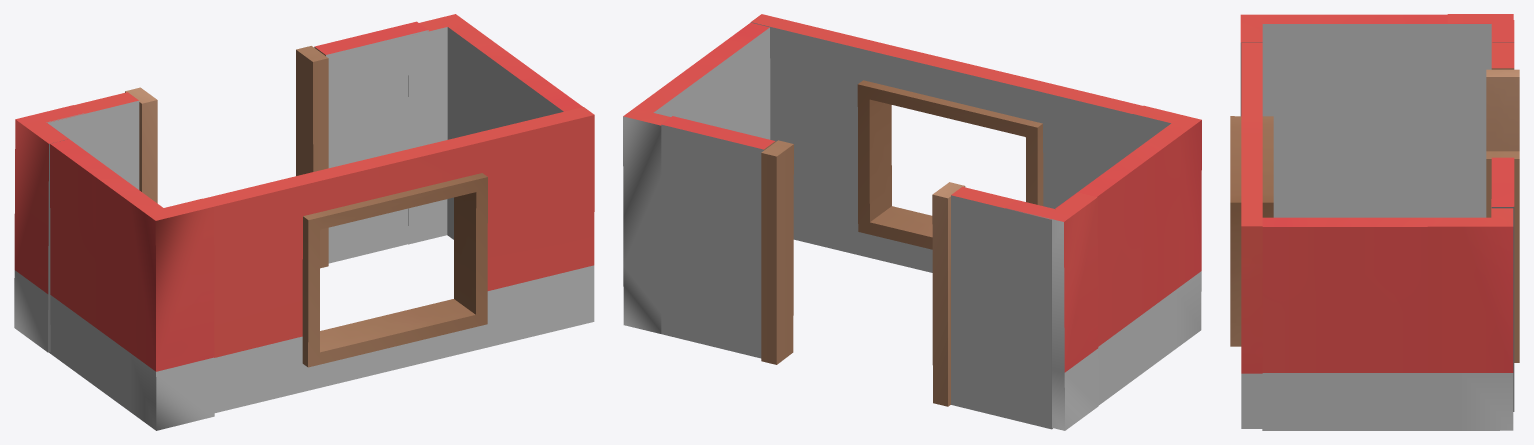
File: BAÑP.fbx
The picture shows the model from 3 angles, left to right: view 1: azimuth 30°, elevation 25°; view 2: azimuth 150°, elevation 25°; view 3: azimuth 270°, elevation 25°; orthographic projection. The views are drawn at different scales.
Parts seen in each view (by area): view 1: paret_ventana5, paret_estrecha6, paret_puerta35, paret_estrecha5, paret_esquina_57; view 2: paret_puerta35, paret_ventana5, paret_estrecha6, paret_estrecha5, paret_esquina_57; view 3: paret_estrecha5, paret_estrecha6, paret_ventana5, paret_puerta35, paret_esquina_57.
Part boxes in pixels (x1,y1,x2,y2): paret_ventana5: (203,107,594,412); paret_estrecha6: (46,122,214,430); paret_puerta35: (47,21,428,268); paret_estrecha5: (408,14,582,244); paret_esquina_57: (14,105,84,352); paret_puerta35: (661,116,1052,429); paret_ventana5: (750,14,1142,272); paret_estrecha6: (1055,105,1201,405); paret_estrecha5: (623,22,770,333); paret_esquina_57: (1005,192,1098,430); paret_estrecha5: (1262,199,1513,430); paret_estrecha6: (1240,14,1491,217); paret_ventana5: (1230,43,1273,428); paret_puerta35: (1486,20,1519,411); paret_esquina_57: (1447,14,1514,42).
Size of the model in its own units: 749 by 341 by 433.
